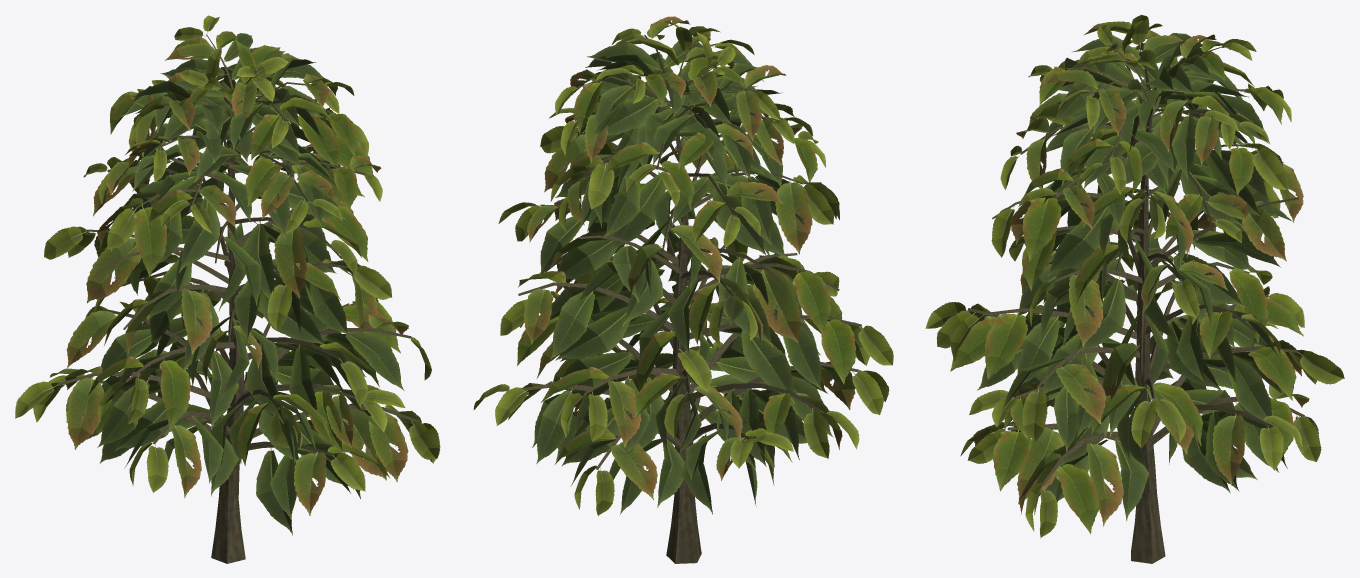
Rendered from P_Herb_00337.obj.
The picture shows the model from 3 angles, left to right: view 1: azimuth 30°, elevation 25°; view 2: azimuth 150°, elevation 25°; view 3: azimuth 270°, elevation 25°; orthographic projection. The views are drawn at different scales.
Bounding box in the file's own units: 0.7729 × 1.06 × 0.7512.
1 material, 1 textured.
